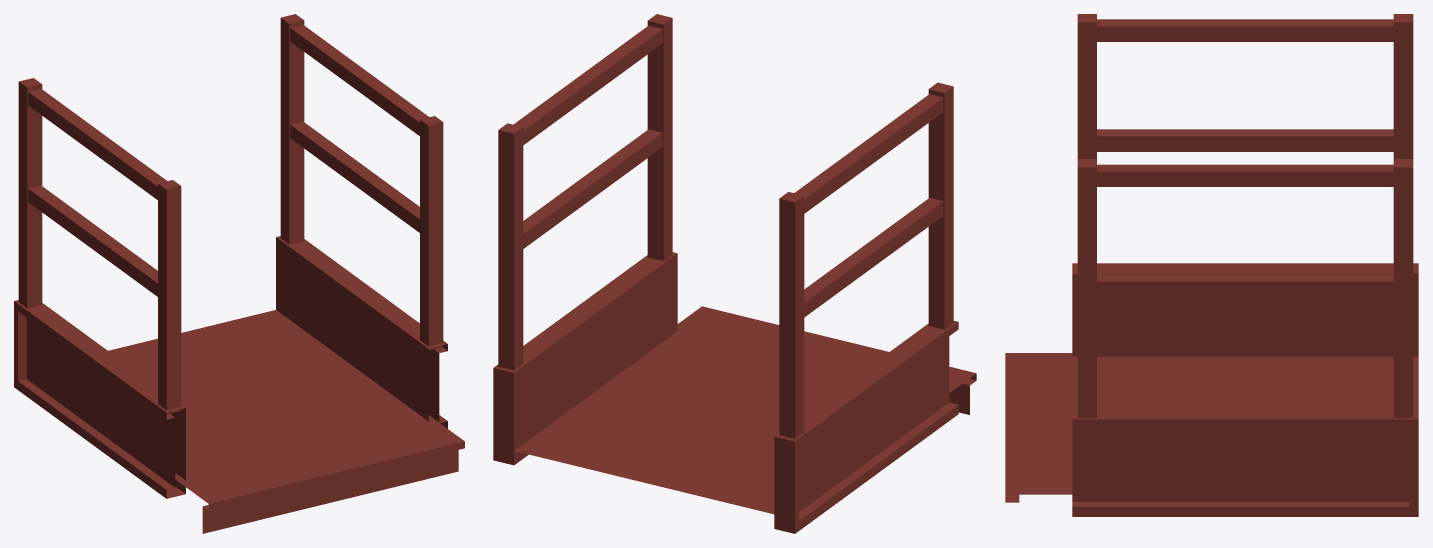
The model's file is Industrial catwalk walk way 3.fbx.
3 renders of one model, left to right at view 1: azimuth 30°, elevation 25°; view 2: azimuth 150°, elevation 25°; view 3: azimuth 270°, elevation 25°, orthographic. The views are drawn at different scales.
Parts seen in each view (by area): view 1: polySurface120; view 2: polySurface120; view 3: polySurface120.
Boxes of the visible parts, box(x1,y1,x2,y2) form: polySurface120: box(14, 14, 464, 533); polySurface120: box(493, 14, 976, 533); polySurface120: box(1005, 14, 1418, 516).
Bounding box in the file's own units: 129 × 144 × 144.
